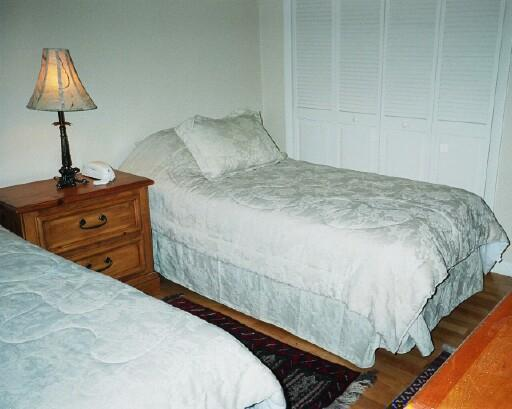Armario: (287, 2, 490, 184)
Cama: (134, 132, 495, 355), (3, 228, 284, 408)
